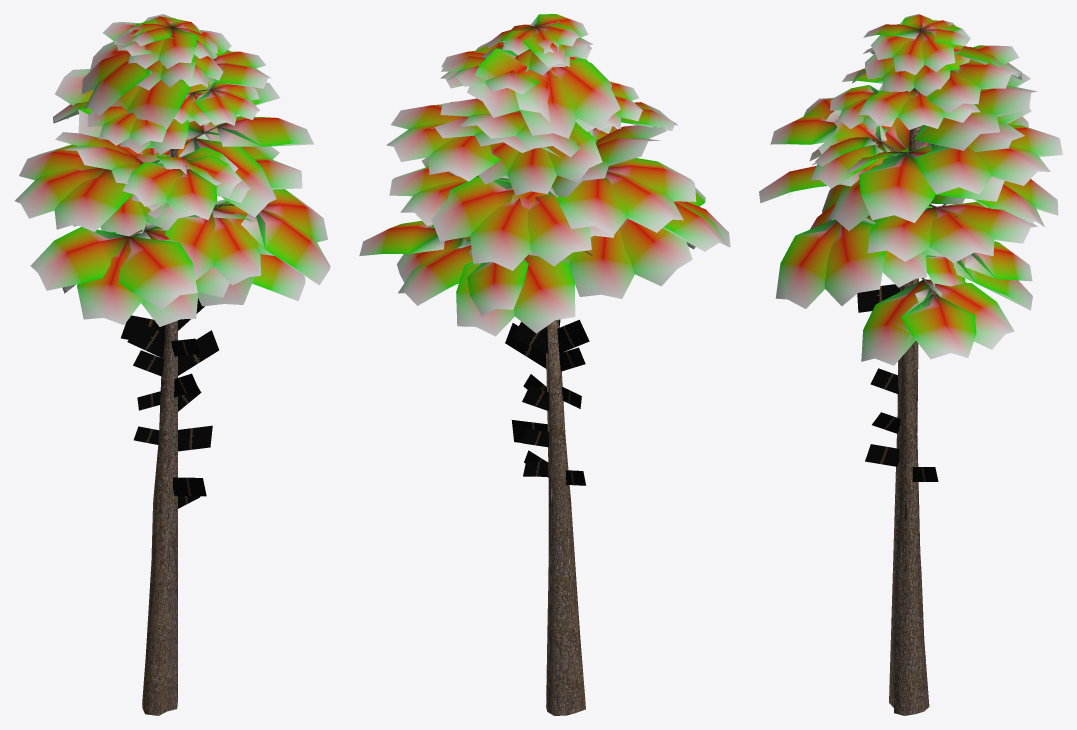
The model's file is Sequia_02.DAE.
The picture shows the model from 3 angles, left to right: view 1: azimuth 30°, elevation 25°; view 2: azimuth 150°, elevation 25°; view 3: azimuth 270°, elevation 25°; orthographic projection. The views are drawn at different scales.
Parts seen in each view (by area): view 1: A_Sequia512, A_Sequia256; view 2: A_Sequia512, A_Sequia256; view 3: A_Sequia512, A_Sequia256.
Part boxes in pixels (box(x1,y1,x2,y2)): A_Sequia512: box(15, 14, 330, 715); A_Sequia256: box(53, 26, 315, 712); A_Sequia512: box(359, 14, 730, 715); A_Sequia256: box(431, 27, 723, 708); A_Sequia512: box(759, 14, 1062, 715); A_Sequia256: box(796, 30, 1061, 715).
Size of what is drawn, in the model's own units: 13.49 by 10.94 by 27.42.
